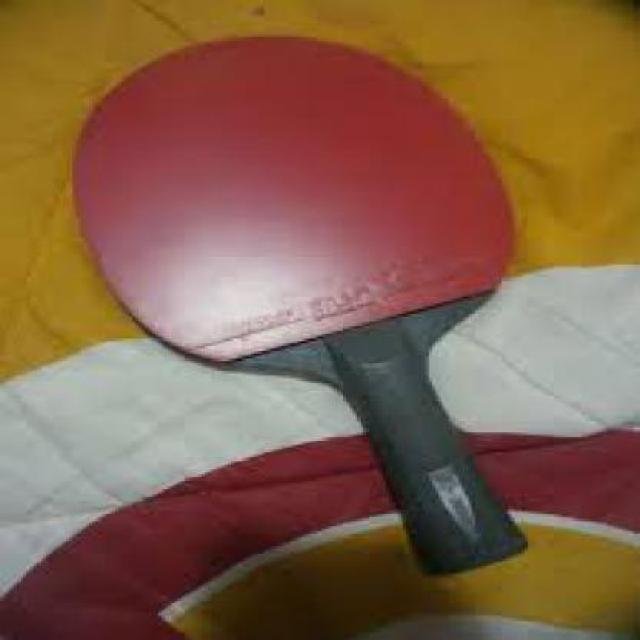table_tennis_racket: (70, 31, 516, 374)
